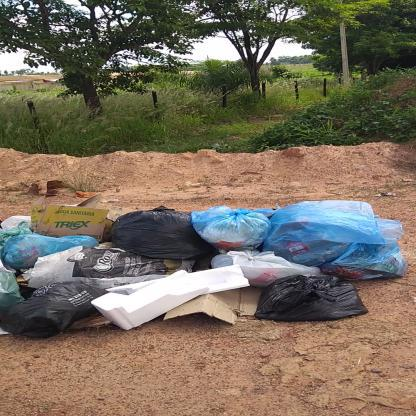lixo: (0, 210, 365, 324)
